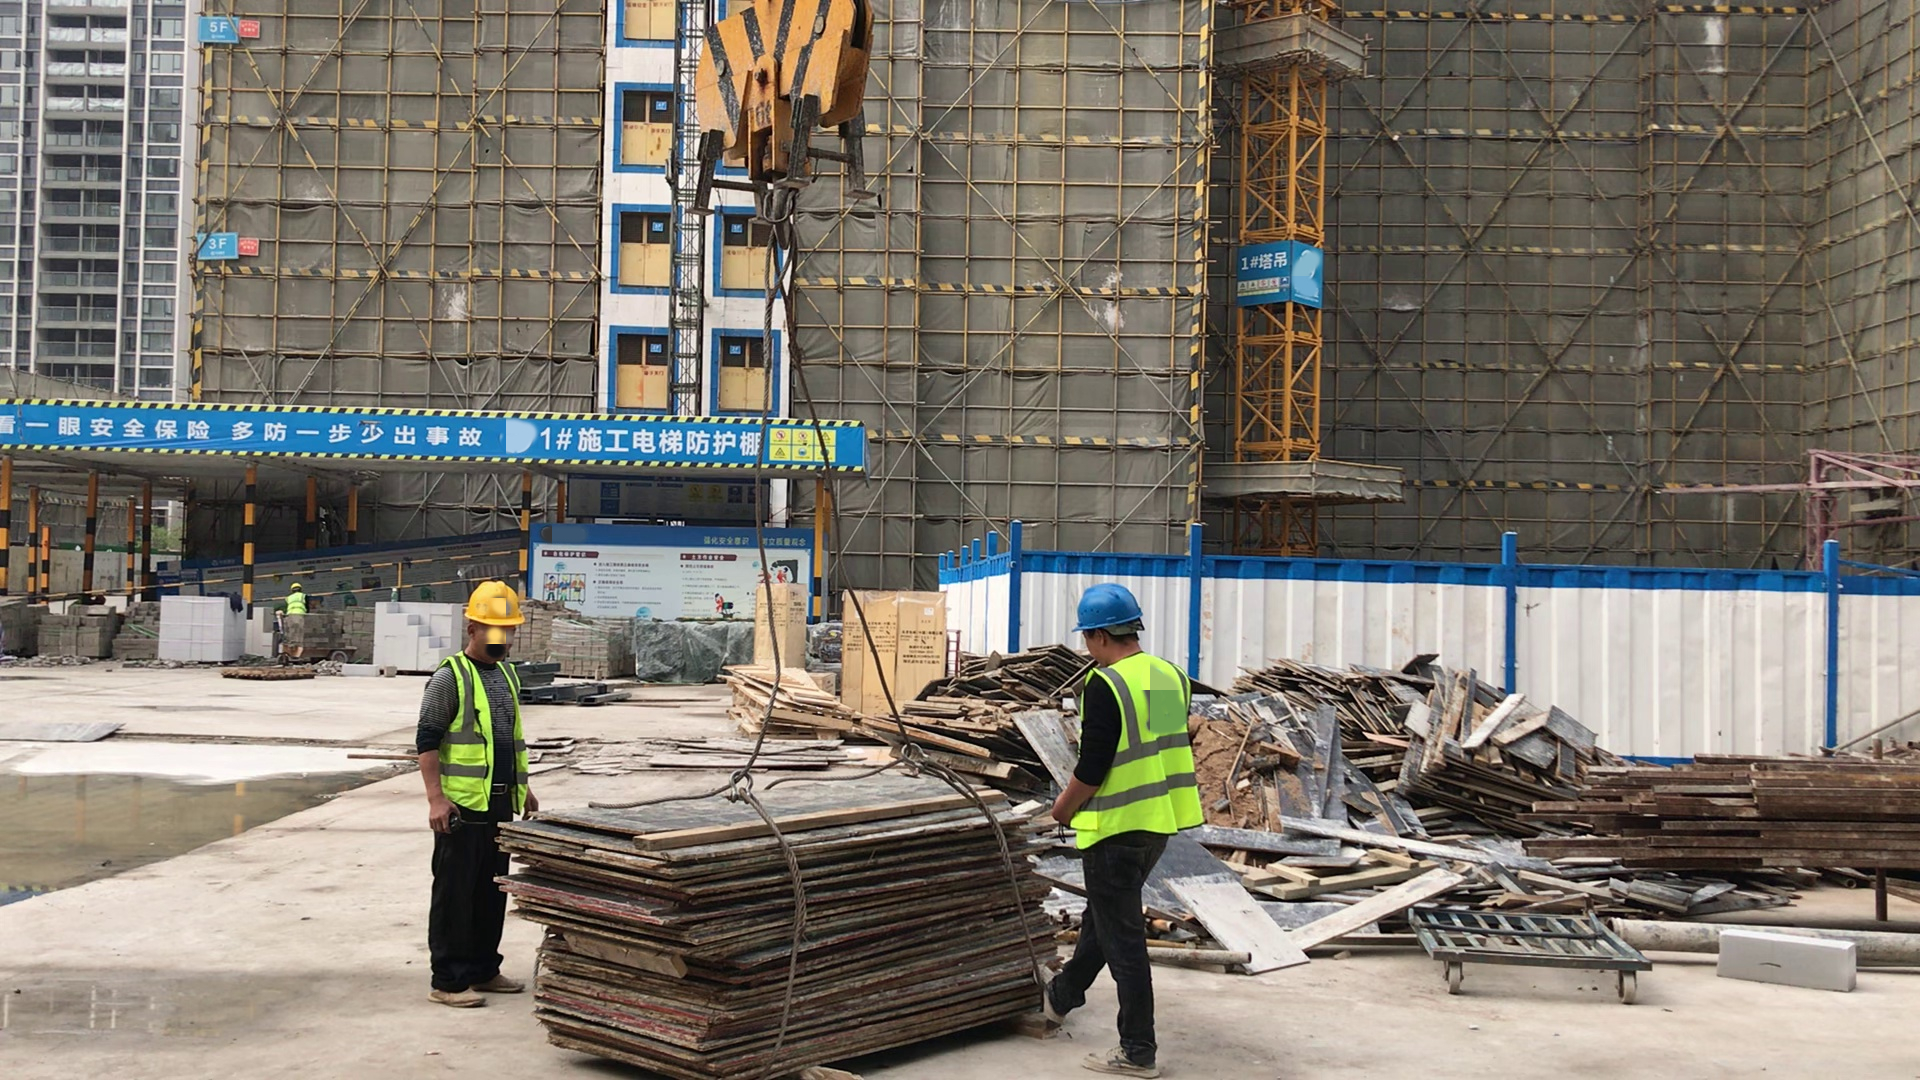board: (496, 773, 1058, 1075)
brick: (155, 595, 270, 659), (373, 602, 460, 668)
helmet: (1068, 584, 1144, 630), (464, 577, 526, 629), (289, 582, 301, 589)
hook: (695, 2, 878, 250)
person: (1041, 582, 1205, 1080), (415, 576, 532, 1022), (280, 582, 304, 617)
slogan: (2, 416, 491, 449), (766, 425, 839, 460), (1237, 276, 1290, 299)
vest: (1076, 652, 1203, 847), (434, 654, 527, 816), (285, 592, 303, 614)
